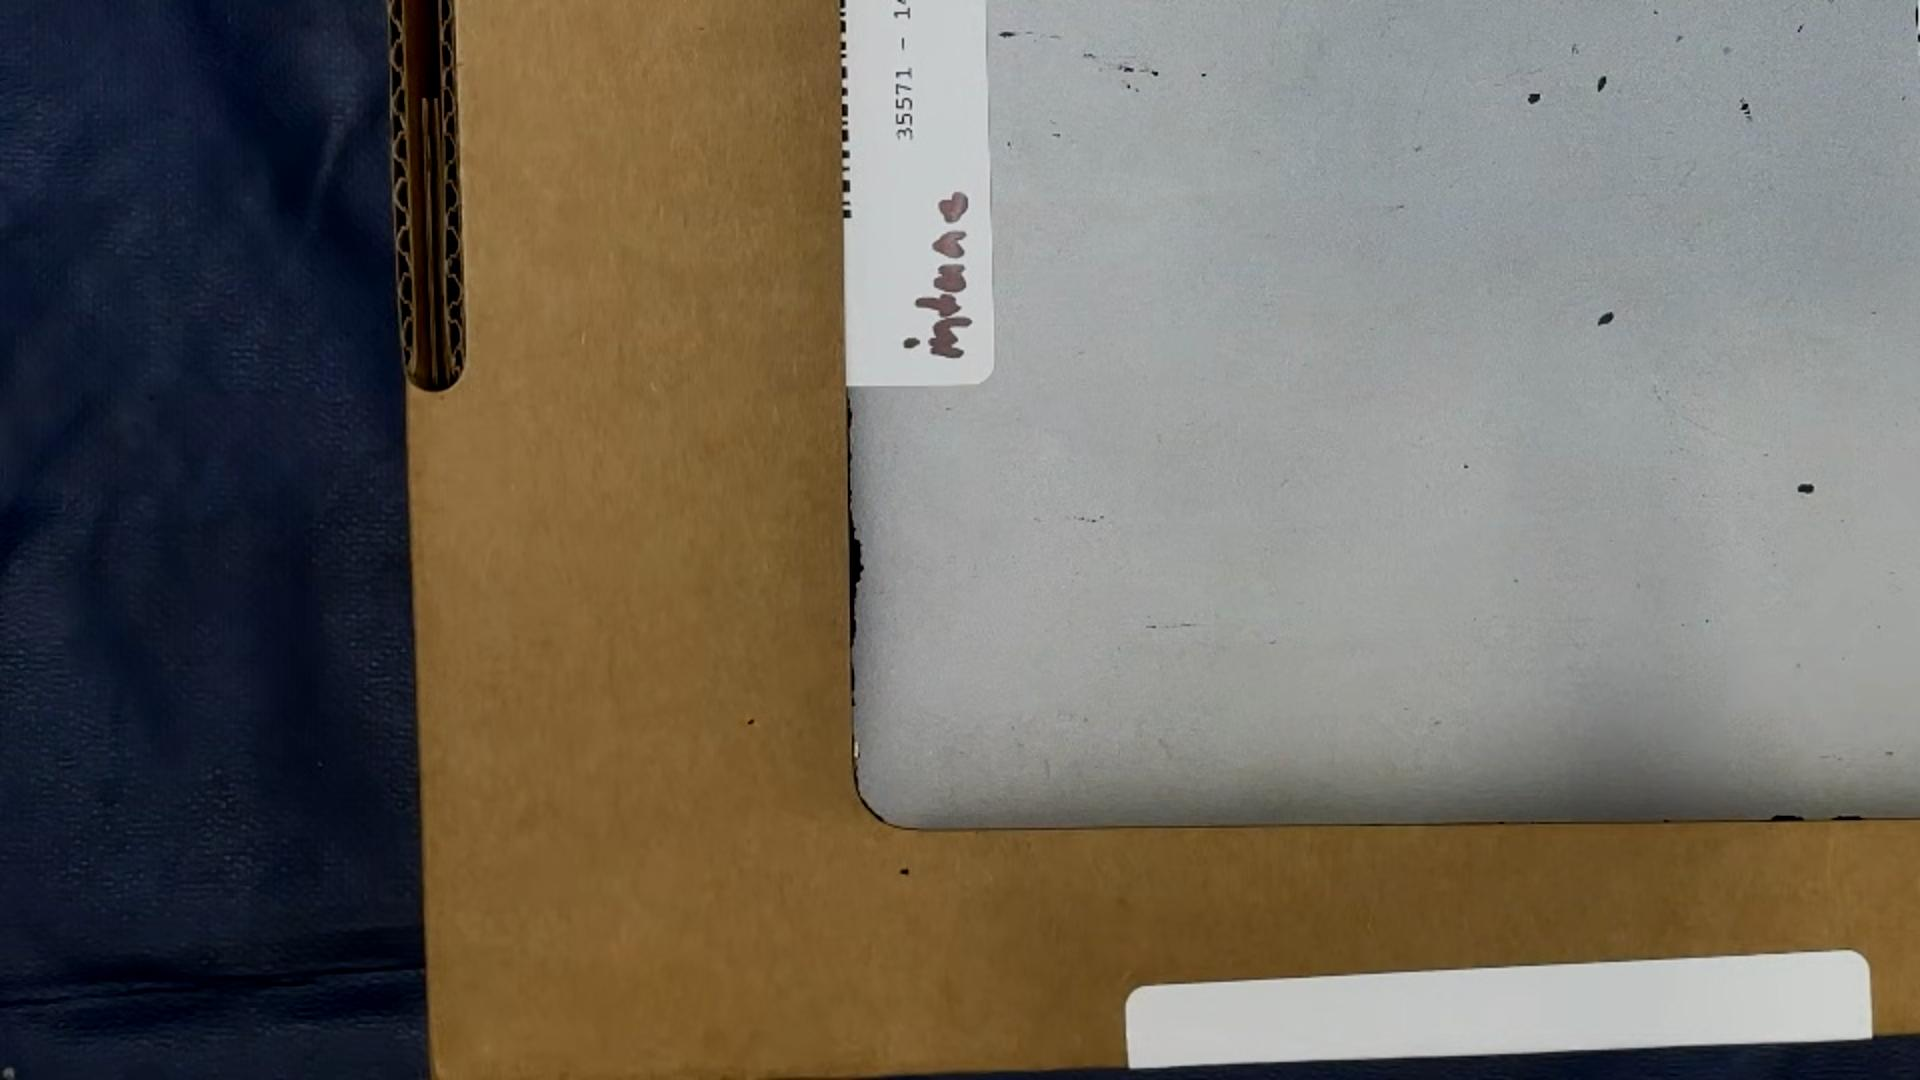chip: (848, 508, 866, 648), (1796, 478, 1818, 496), (1596, 310, 1615, 327), (1523, 92, 1544, 106), (1739, 97, 1752, 119), (1770, 814, 1805, 822), (1596, 75, 1608, 94), (1830, 815, 1866, 821), (848, 398, 854, 430)
scratches: (1082, 53, 1159, 77), (997, 30, 1065, 41), (1145, 621, 1200, 629), (1070, 515, 1106, 524), (1121, 80, 1141, 93), (1571, 42, 1579, 57), (1796, 22, 1806, 34), (1675, 35, 1685, 43), (1051, 132, 1062, 138), (1653, 8, 1660, 15), (1461, 464, 1470, 469), (1201, 72, 1207, 77)
